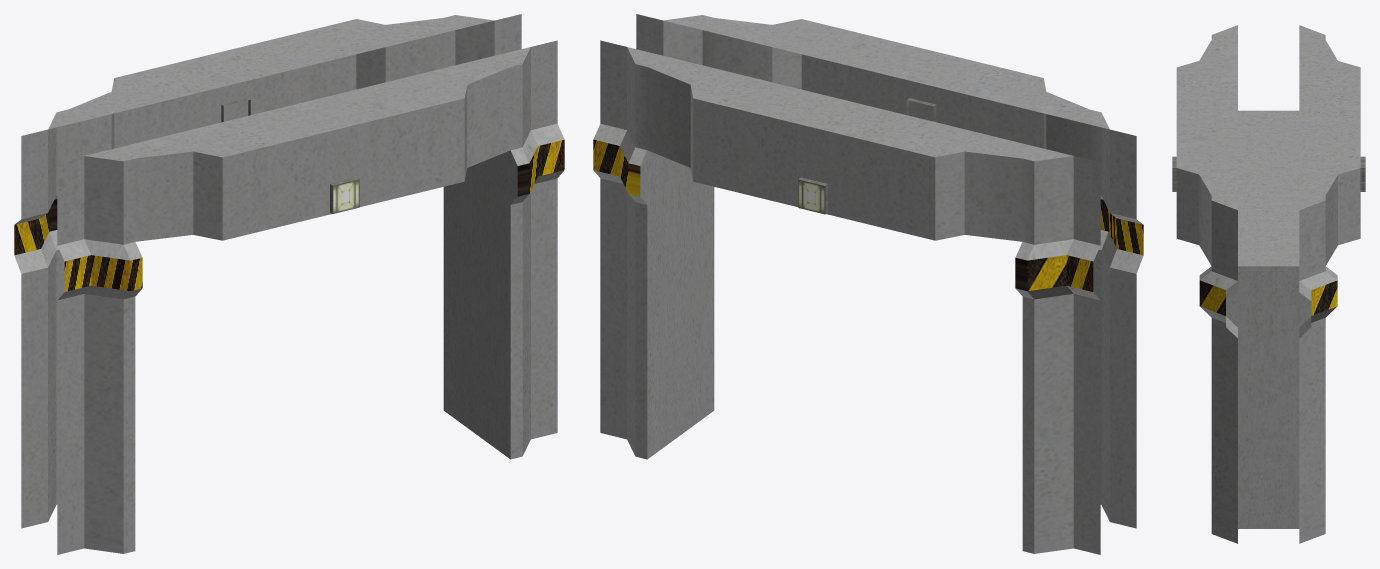
File: Wall_Frame_05m.FBX
3 renders of one model, left to right at view 1: azimuth 30°, elevation 25°; view 2: azimuth 150°, elevation 25°; view 3: azimuth 270°, elevation 25°, orthographic. The views are drawn at different scales.
Parts seen in each view (by area): view 1: Wall_Frame_05m_mesh; view 2: Wall_Frame_05m_mesh; view 3: Wall_Frame_05m_mesh.
Boxes of the visible parts, x1,y1,x2,y2 form: Wall_Frame_05m_mesh: (14, 14, 564, 554); Wall_Frame_05m_mesh: (593, 14, 1143, 554); Wall_Frame_05m_mesh: (1172, 25, 1365, 543).
Bounding box in the file's own units: 400 × 300 × 158.
Materials: 3 (3 with a texture image).
